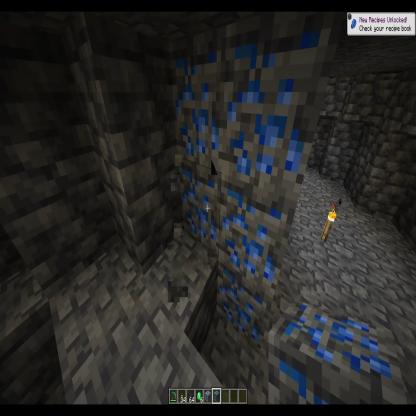lapis ore: (220, 20, 332, 206), (265, 298, 408, 416), (218, 170, 289, 300), (169, 25, 227, 174), (216, 258, 266, 346), (176, 167, 222, 259)
